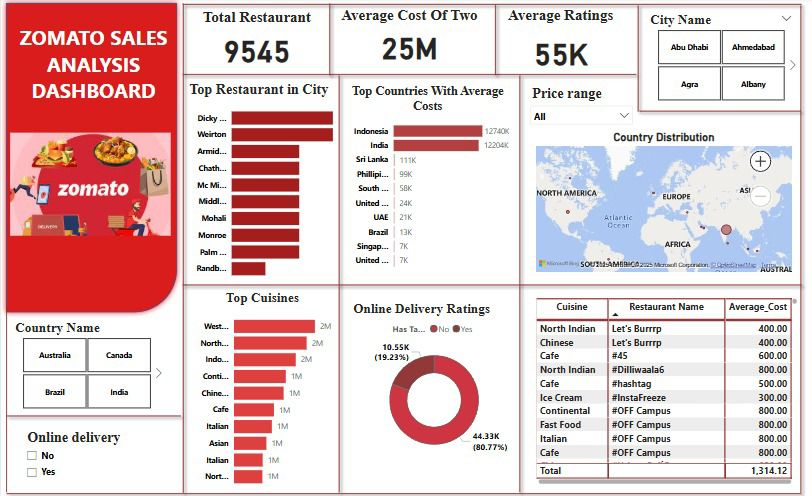

Layout of this report page (visuals, bound fields, positions):
{"tool":"powerbi","page":{"name":"Page 1","canvas":[1500,900],"ordinal":0},"visuals":[{"type":"shape","box":[0,0,299.2,899.6],"z":0},{"type":"image","box":[0,23.6,299.2,265.7],"z":1000},{"type":"kpi","title":"Total Restaurants ","fields":{"Indicator":["Zomato.Total Restaurants"],"TrendLine":["Zomato.Country Code"]},"box":[299.2,23.6,216.5,159.4],"z":2000},{"type":"kpi","title":"Average Ratings ","fields":{"Indicator":["Zomato.Average_Ratings"],"TrendLine":["Zomato.Country Code"]},"box":[515.7,23.6,216.5,159.4],"z":3000},{"type":"kpi","title":"Average Cost ","fields":{"Indicator":["Zomato.Average_Cost"],"TrendLine":["Zomato.Country Code"]},"box":[732.3,23.6,196.9,159.4],"z":4000},{"type":"map","title":"Country Distribution","fields":{"Size":["CountNonNull(Zomato.Restaurant ID)"],"Series":["Zomato.Country Code"]},"box":[929.1,23.6,547.2,352.4],"z":5000},{"type":"shape","box":[299.2,147.6,616.1,35.4],"z":6000},{"type":"shape","box":[866.1,0,98.4,484.3],"z":7000},{"type":"shape","box":[468.5,0,61,165.4],"z":8000},{"type":"shape","box":[689,0,61,165.4],"z":9000},{"type":"shape","box":[915.4,354.3,584.6,53.1],"z":10000},{"type":"barChart","title":"Top 10 Cities ","fields":{"Category":["Zomato.City"],"Y":["CountNonNull(Zomato.Restaurant ID)"]},"box":[299.2,183.1,261.8,301.2],"z":11000},{"type":"barChart","title":"Top 8 Cuisines","fields":{"Category":["Zomato.Cuisines"],"Y":["Zomato.Average_Ratings"]},"box":[561,183.1,340.6,301.2],"z":12000},{"type":"shape","box":[509.8,163.4,98.4,320.9],"z":13000},{"type":"shape","box":[300,456,616,54],"z":14000},{"type":"donutChart","title":"Online Delivery Insights","fields":{"Category":["Zomato.Has Online delivery"],"Y":["Sum(Zomato.Price range)"]},"box":[301.2,490.2,259.8,238.2],"z":15000},{"type":"pivotTable","fields":{"Values":["Sum(Zomato.Average Cost for two)"],"Columns":["Zomato.Cuisines","Zomato.City"],"Rows":["Zomato.Country Code"]},"box":[1038,610,434,280],"z":16000}]}

Visuals, with their boxes in screenshot pixels (x1, y1, x2, y2), scaled from the page's 1500x900 canvas onto the 812x496 screenshot:
shape: bbox=[0, 0, 162, 495]
image: bbox=[0, 13, 162, 159]
"Total Restaurants " kpi: bbox=[162, 13, 279, 101]
"Average Ratings " kpi: bbox=[279, 13, 396, 101]
"Average Cost " kpi: bbox=[396, 13, 503, 101]
"Country Distribution" map: bbox=[503, 13, 799, 207]
shape: bbox=[162, 81, 495, 101]
shape: bbox=[469, 0, 522, 267]
shape: bbox=[254, 0, 287, 91]
shape: bbox=[373, 0, 406, 91]
shape: bbox=[496, 195, 811, 225]
"Top 10 Cities " barChart: bbox=[162, 101, 304, 267]
"Top 8 Cuisines" barChart: bbox=[304, 101, 488, 267]
shape: bbox=[276, 90, 329, 267]
shape: bbox=[162, 251, 496, 281]
"Online Delivery Insights" donutChart: bbox=[163, 270, 304, 401]
pivotTable - Sum(Zomato.Average Cost for two) x Zomato.Cuisines: bbox=[562, 336, 797, 490]
